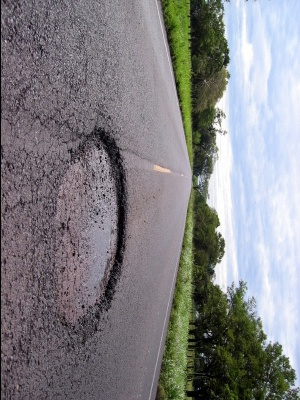pothole: (49, 110, 134, 338)
